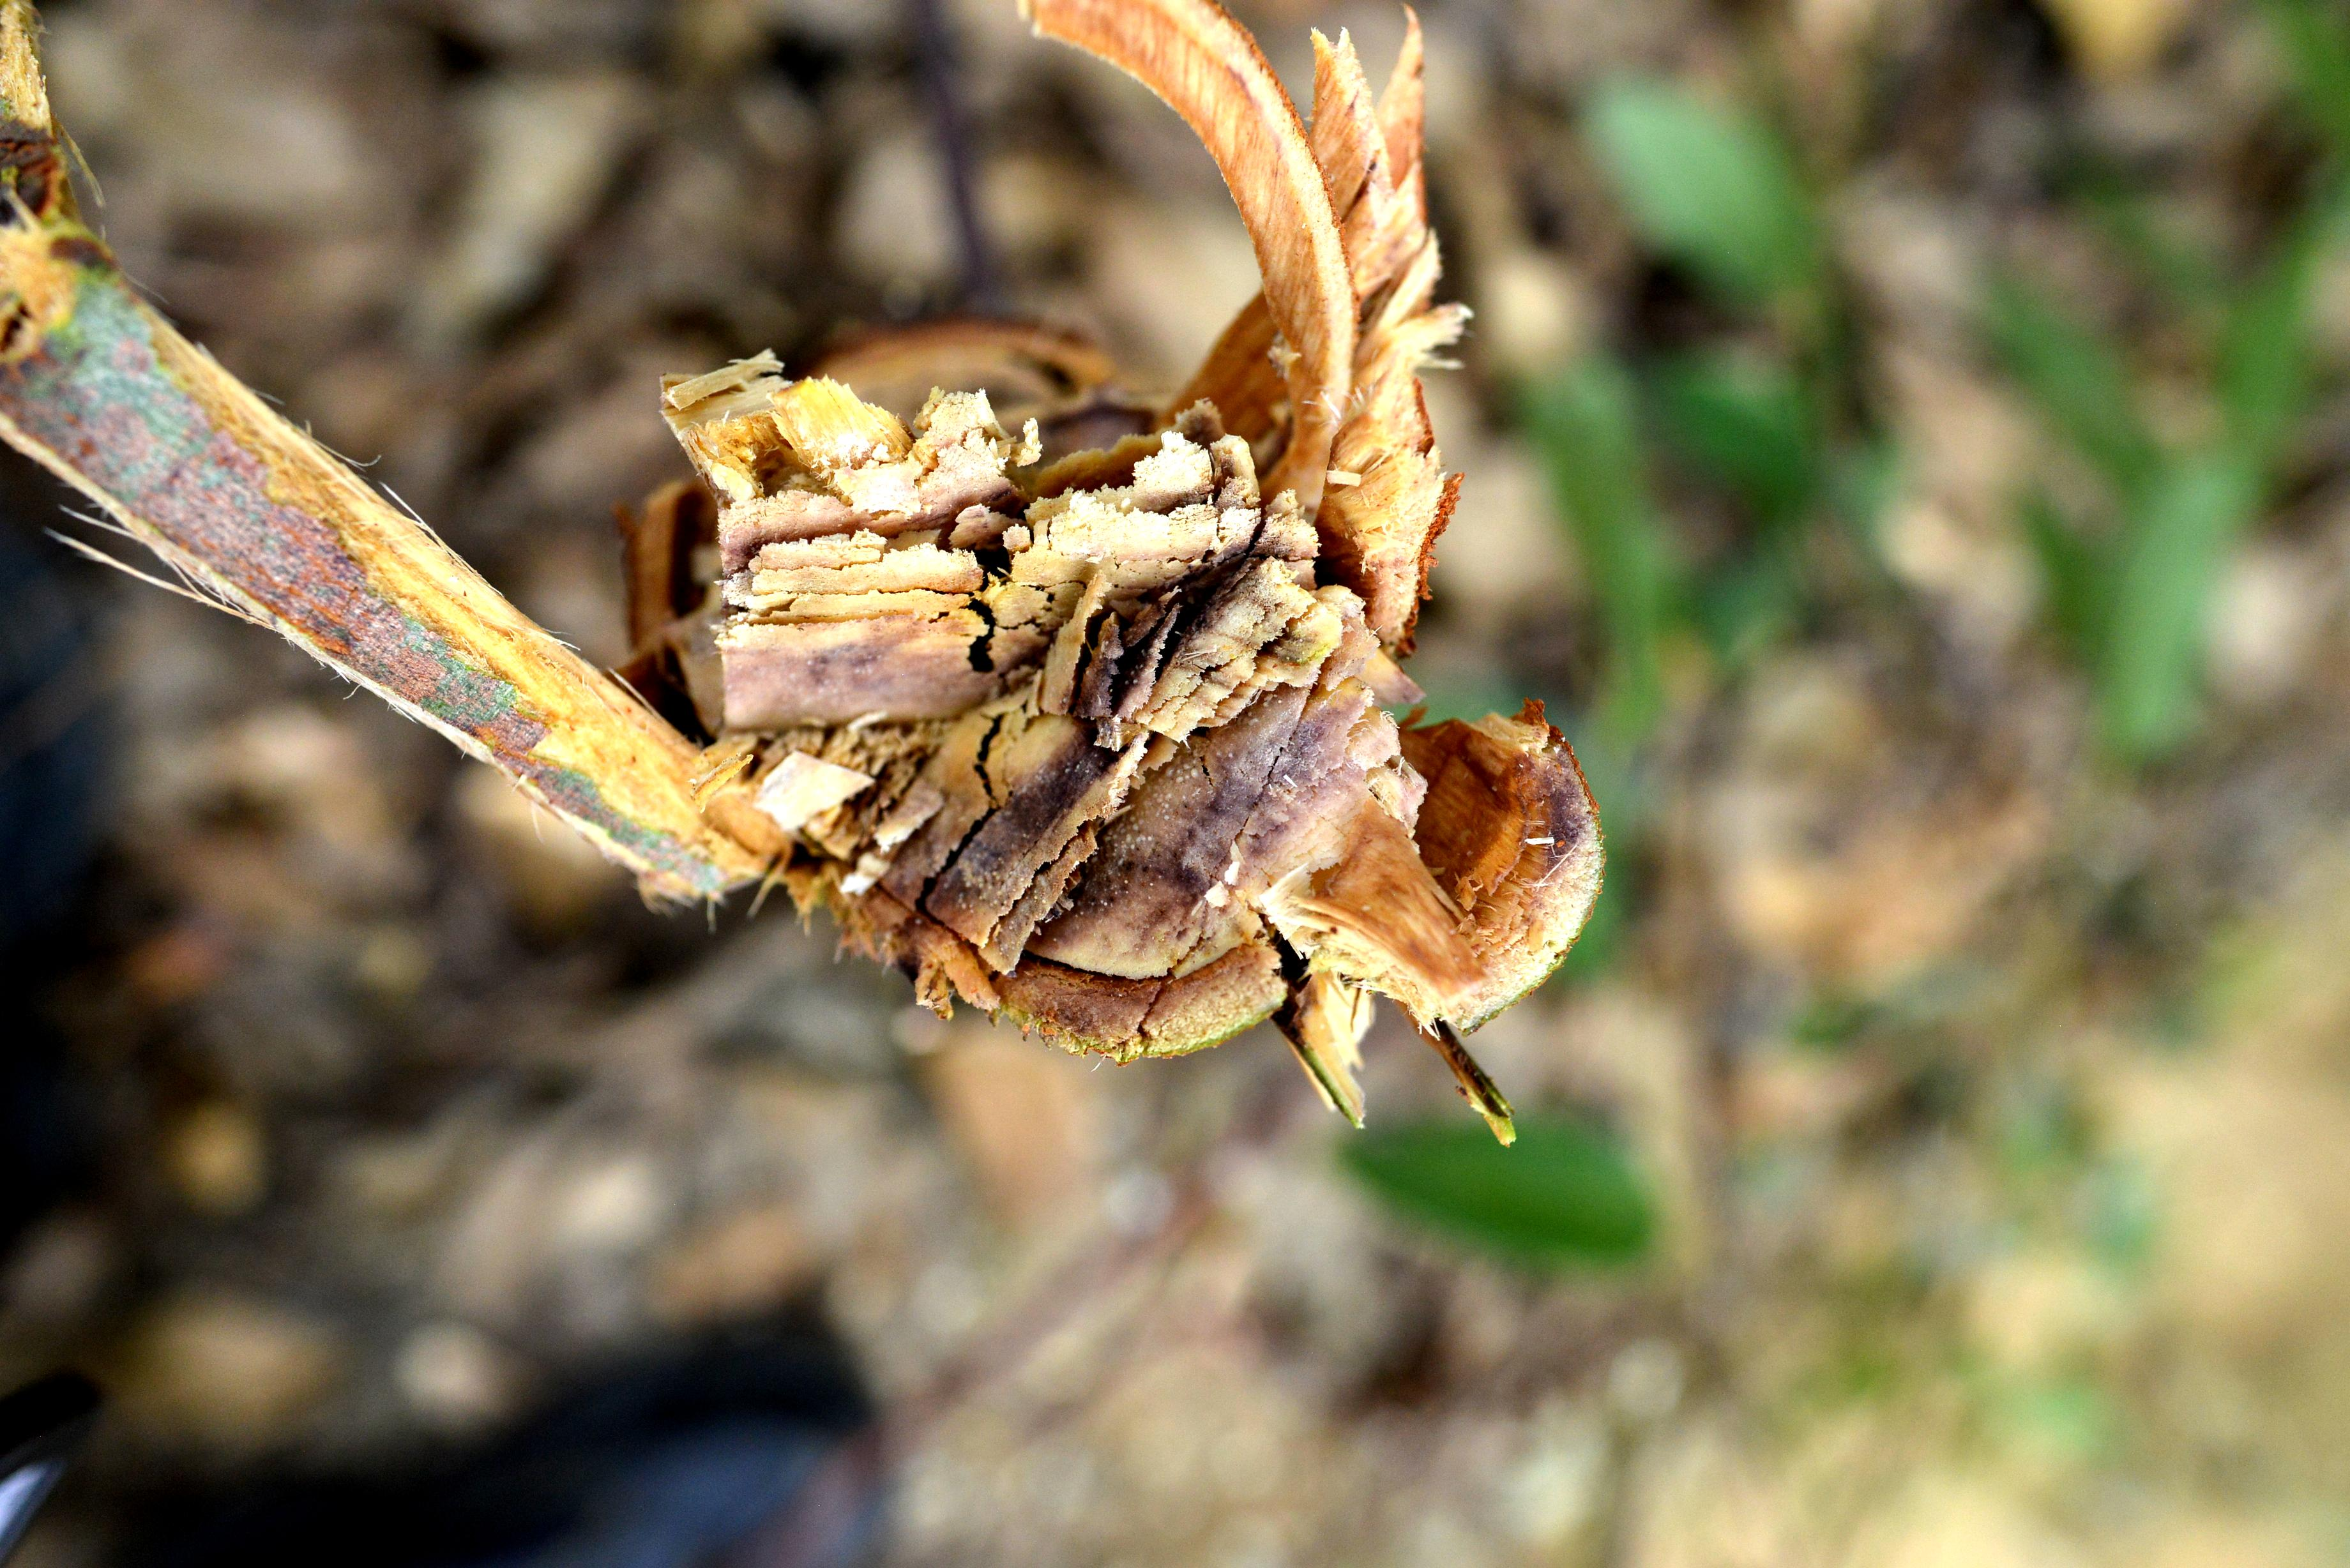Ralstonia: (962, 754, 1213, 941), (787, 413, 871, 492), (1122, 647, 1146, 696)
